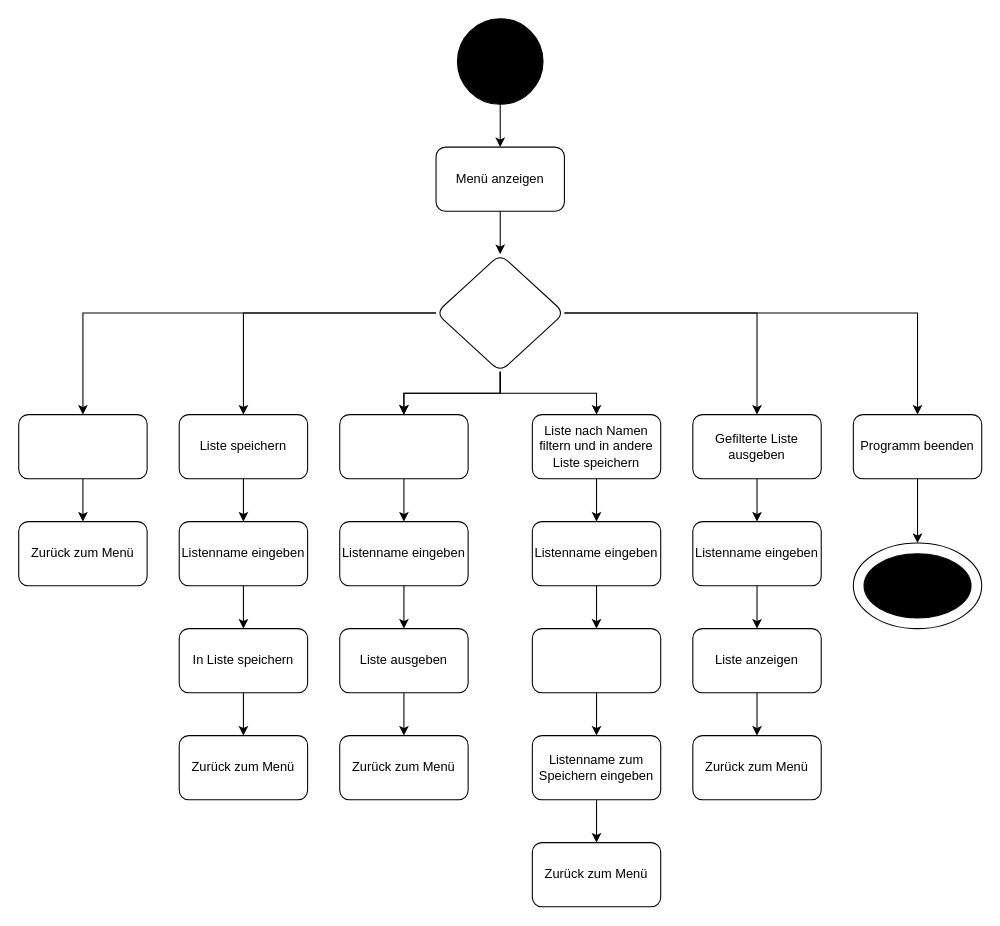
The diagram is 1000 pixels wide and 926 high, and some of its shapes have lost their labels. Each missing label, with the box of its shape:
Allgemeine Liste ausgeben: (339, 414, 468, 479)
Benutzer wählt Option aus: (435, 253, 564, 372)
Name zum filtern eingeben: (531, 628, 661, 693)
Person hinzufügen: (18, 414, 147, 479)
